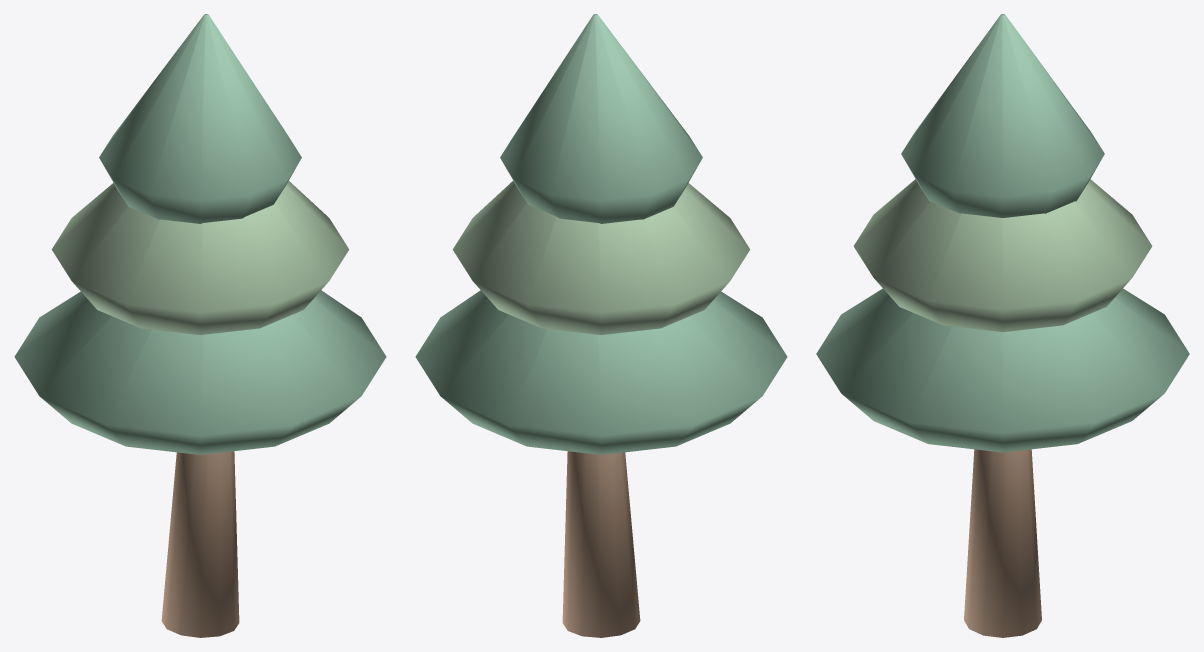
File: tree_pine.glb
3 renders of one model, left to right at view 1: azimuth 30°, elevation 25°; view 2: azimuth 150°, elevation 25°; view 3: azimuth 270°, elevation 25°, orthographic.
Parts seen in each view (by area): view 1: pine_whorl_0, pine_whorl_1, pine_whorl_2, tapered_trunk; view 2: pine_whorl_0, pine_whorl_1, pine_whorl_2, tapered_trunk; view 3: pine_whorl_0, pine_whorl_1, pine_whorl_2, tapered_trunk.
Part boxes in pixels (left/top/right/bottom): pine_whorl_0: left=14, top=290, right=386, bottom=454; pine_whorl_1: left=51, top=181, right=349, bottom=334; pine_whorl_2: left=99, top=14, right=301, bottom=223; tapered_trunk: left=161, top=451, right=239, bottom=637; pine_whorl_0: left=415, top=290, right=787, bottom=454; pine_whorl_1: left=452, top=181, right=750, bottom=334; pine_whorl_2: left=500, top=14, right=702, bottom=223; tapered_trunk: left=562, top=451, right=640, bottom=637; pine_whorl_0: left=816, top=288, right=1189, bottom=452; pine_whorl_1: left=853, top=179, right=1152, bottom=331; pine_whorl_2: left=901, top=14, right=1104, bottom=217; tapered_trunk: left=964, top=449, right=1041, bottom=637.
Bounding box in the file's own units: 2.2 × 3.96 × 2.2.
